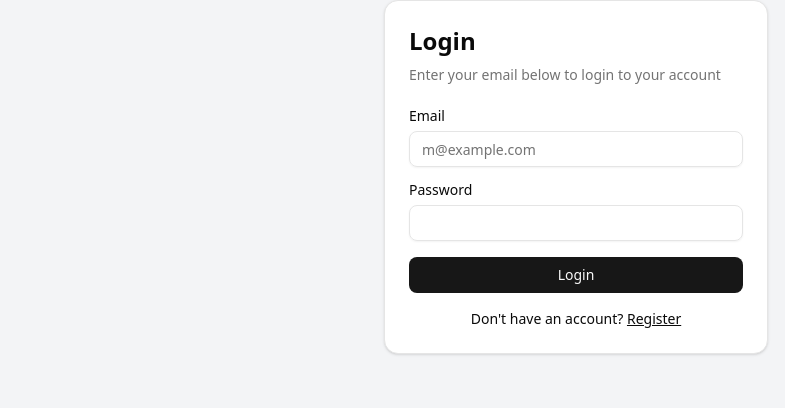
Test: The Login Page Use Cases › 6. should clear a previous error message on a successful subsequent login
💡 FIX: Enter credentials to bypass client-side validation and hit the API
Type "fail@example.com" into the field labelled "Email". click: (576, 149)
box: [409, 131, 743, 167]
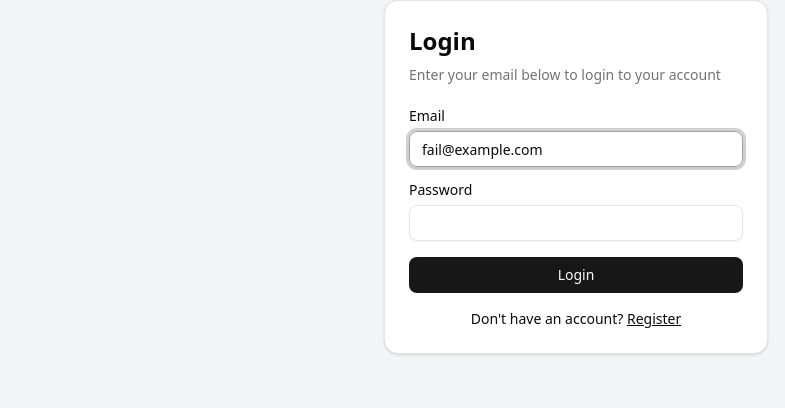
Type "wrongpass" into the password field labelled "Password". click: (576, 223)
box: [409, 205, 743, 241]
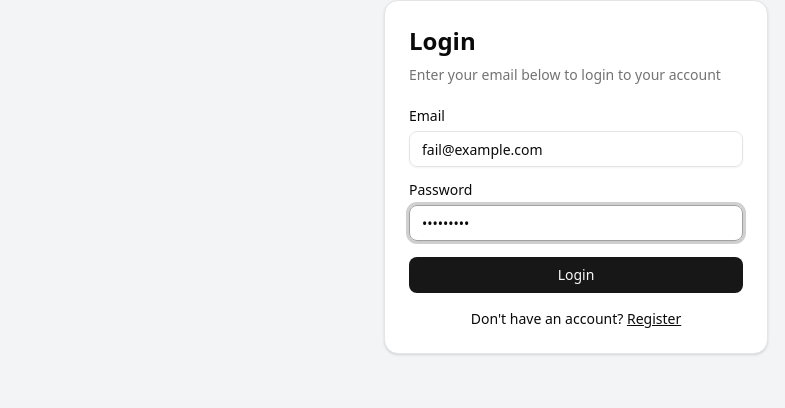
Click the button "Login". click: (576, 275)
box: [409, 257, 743, 293]
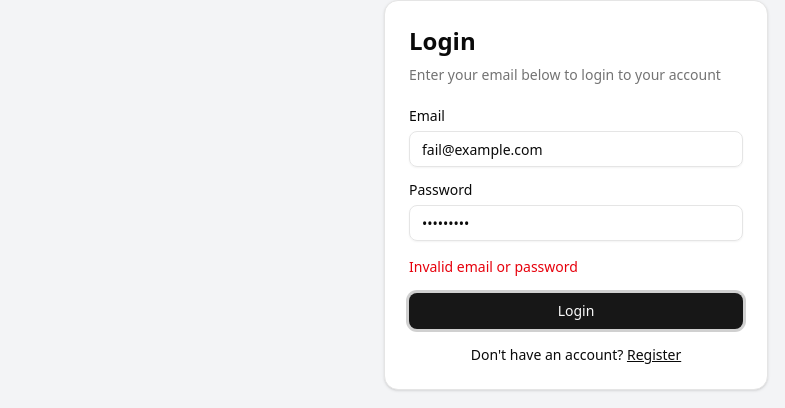
Expected: the text "Invalid email or password" is shown, [409, 257, 578, 276]
Click the button "Login". click: (576, 311)
box: [409, 293, 743, 329]
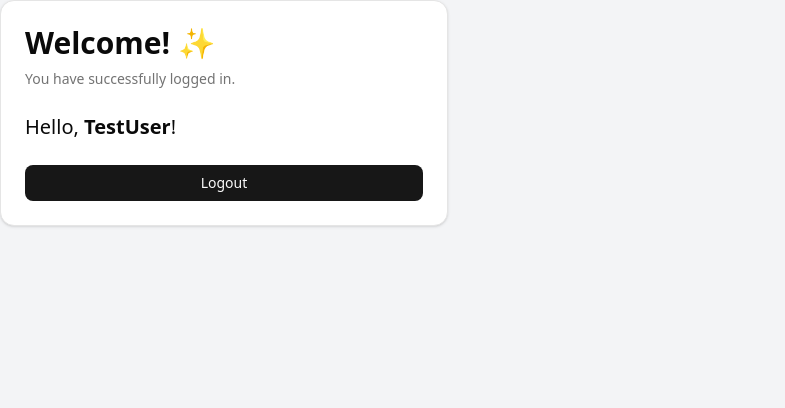
Expected: the text "Welcome! ✨" is shown, [25, 22, 215, 63]
Expected: the text "Invalid email or password" is gone
